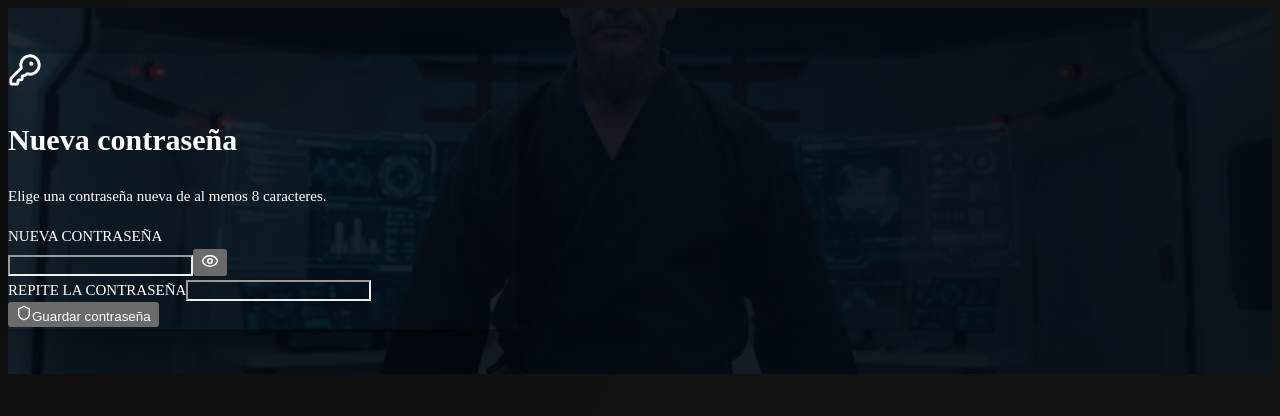
Test: mismatching passwords never reach Supabase
In the password field labelled "NUEVA CONTRASEÑA": coordinates (100, 265) [8,255,193,276], type "ClaveNueva123"
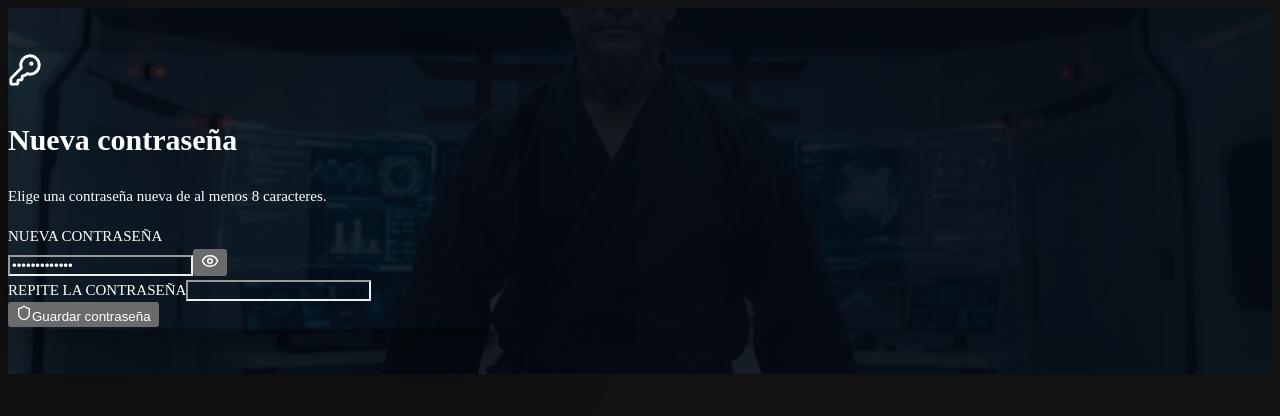
In the password field labelled "REPITE LA CONTRASEÑA": coordinates (279, 290) [186,280,371,301], type "ClaveNueva124"
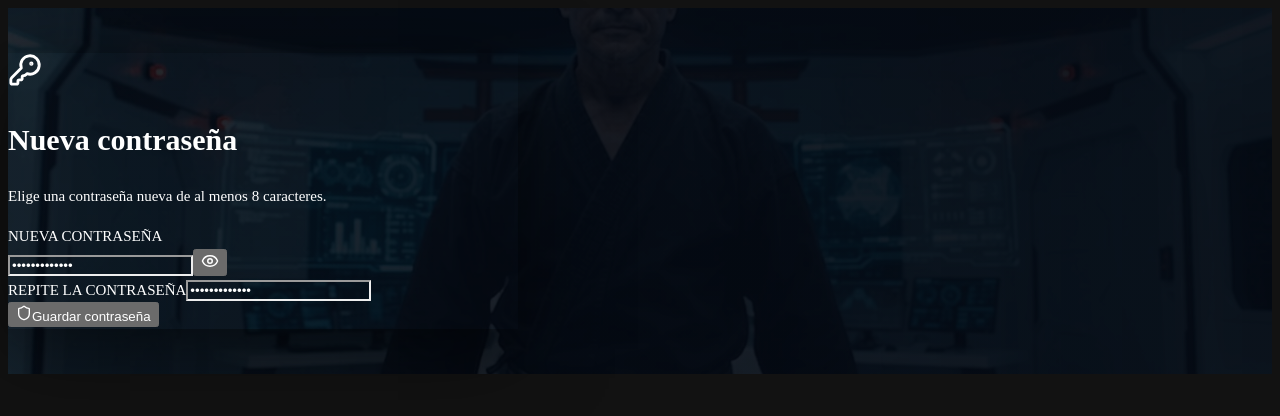
Click the button "Guardar contraseña": coordinates (83, 315) [8,302,158,327]
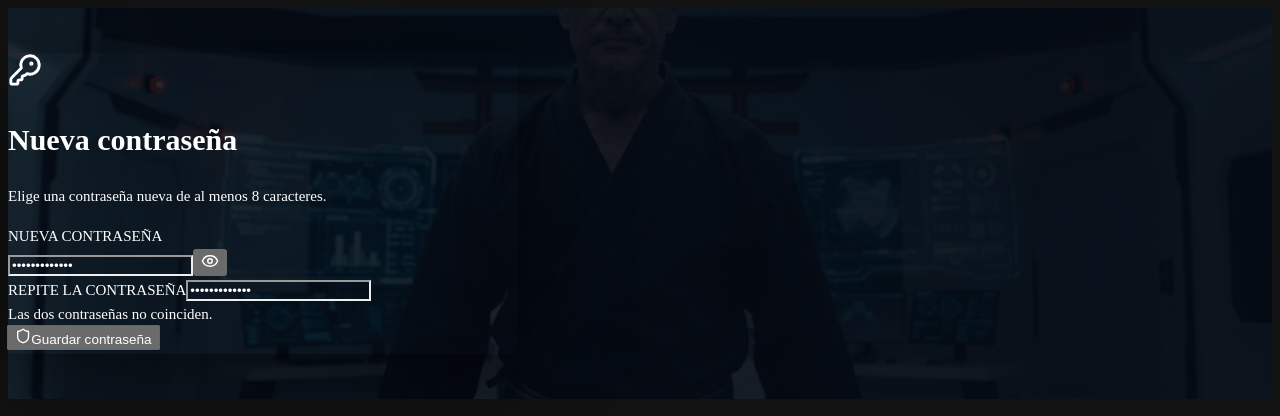
Expected: the message shows "no coinciden", [8,306,212,322]
